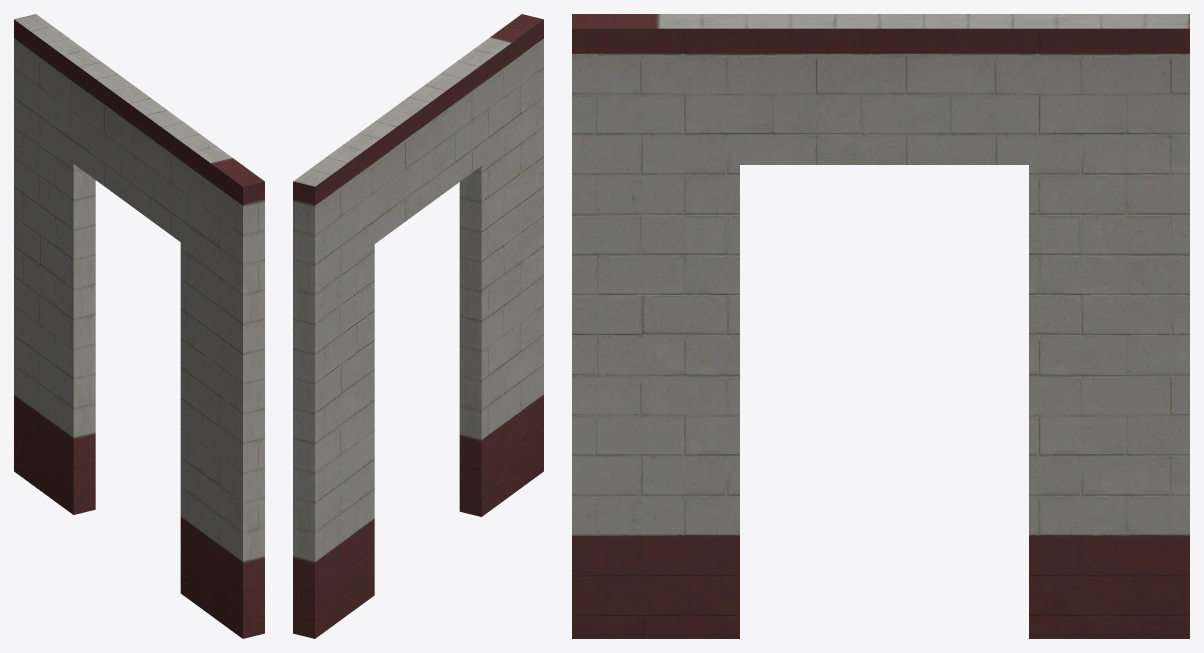
The model's file is soupdoorwall022.glb.
The picture shows the model from 3 angles, left to right: view 1: azimuth 30°, elevation 25°; view 2: azimuth 150°, elevation 25°; view 3: azimuth 270°, elevation 25°; orthographic projection. The views are drawn at different scales.
Visible parts, largest first — view 1: soupdoorwall022_high_1; view 2: soupdoorwall022_high_1; view 3: soupdoorwall022_high_1.
Boxes of the visible parts, box(x1,y1,x2,y2) form: soupdoorwall022_high_1: box(14, 14, 264, 638); soupdoorwall022_high_1: box(293, 14, 543, 638); soupdoorwall022_high_1: box(572, 14, 1189, 638).
Size of the model in its own units: 0.1504 by 2.95 by 2.7.
Materials: 1 (1 with a texture image).
